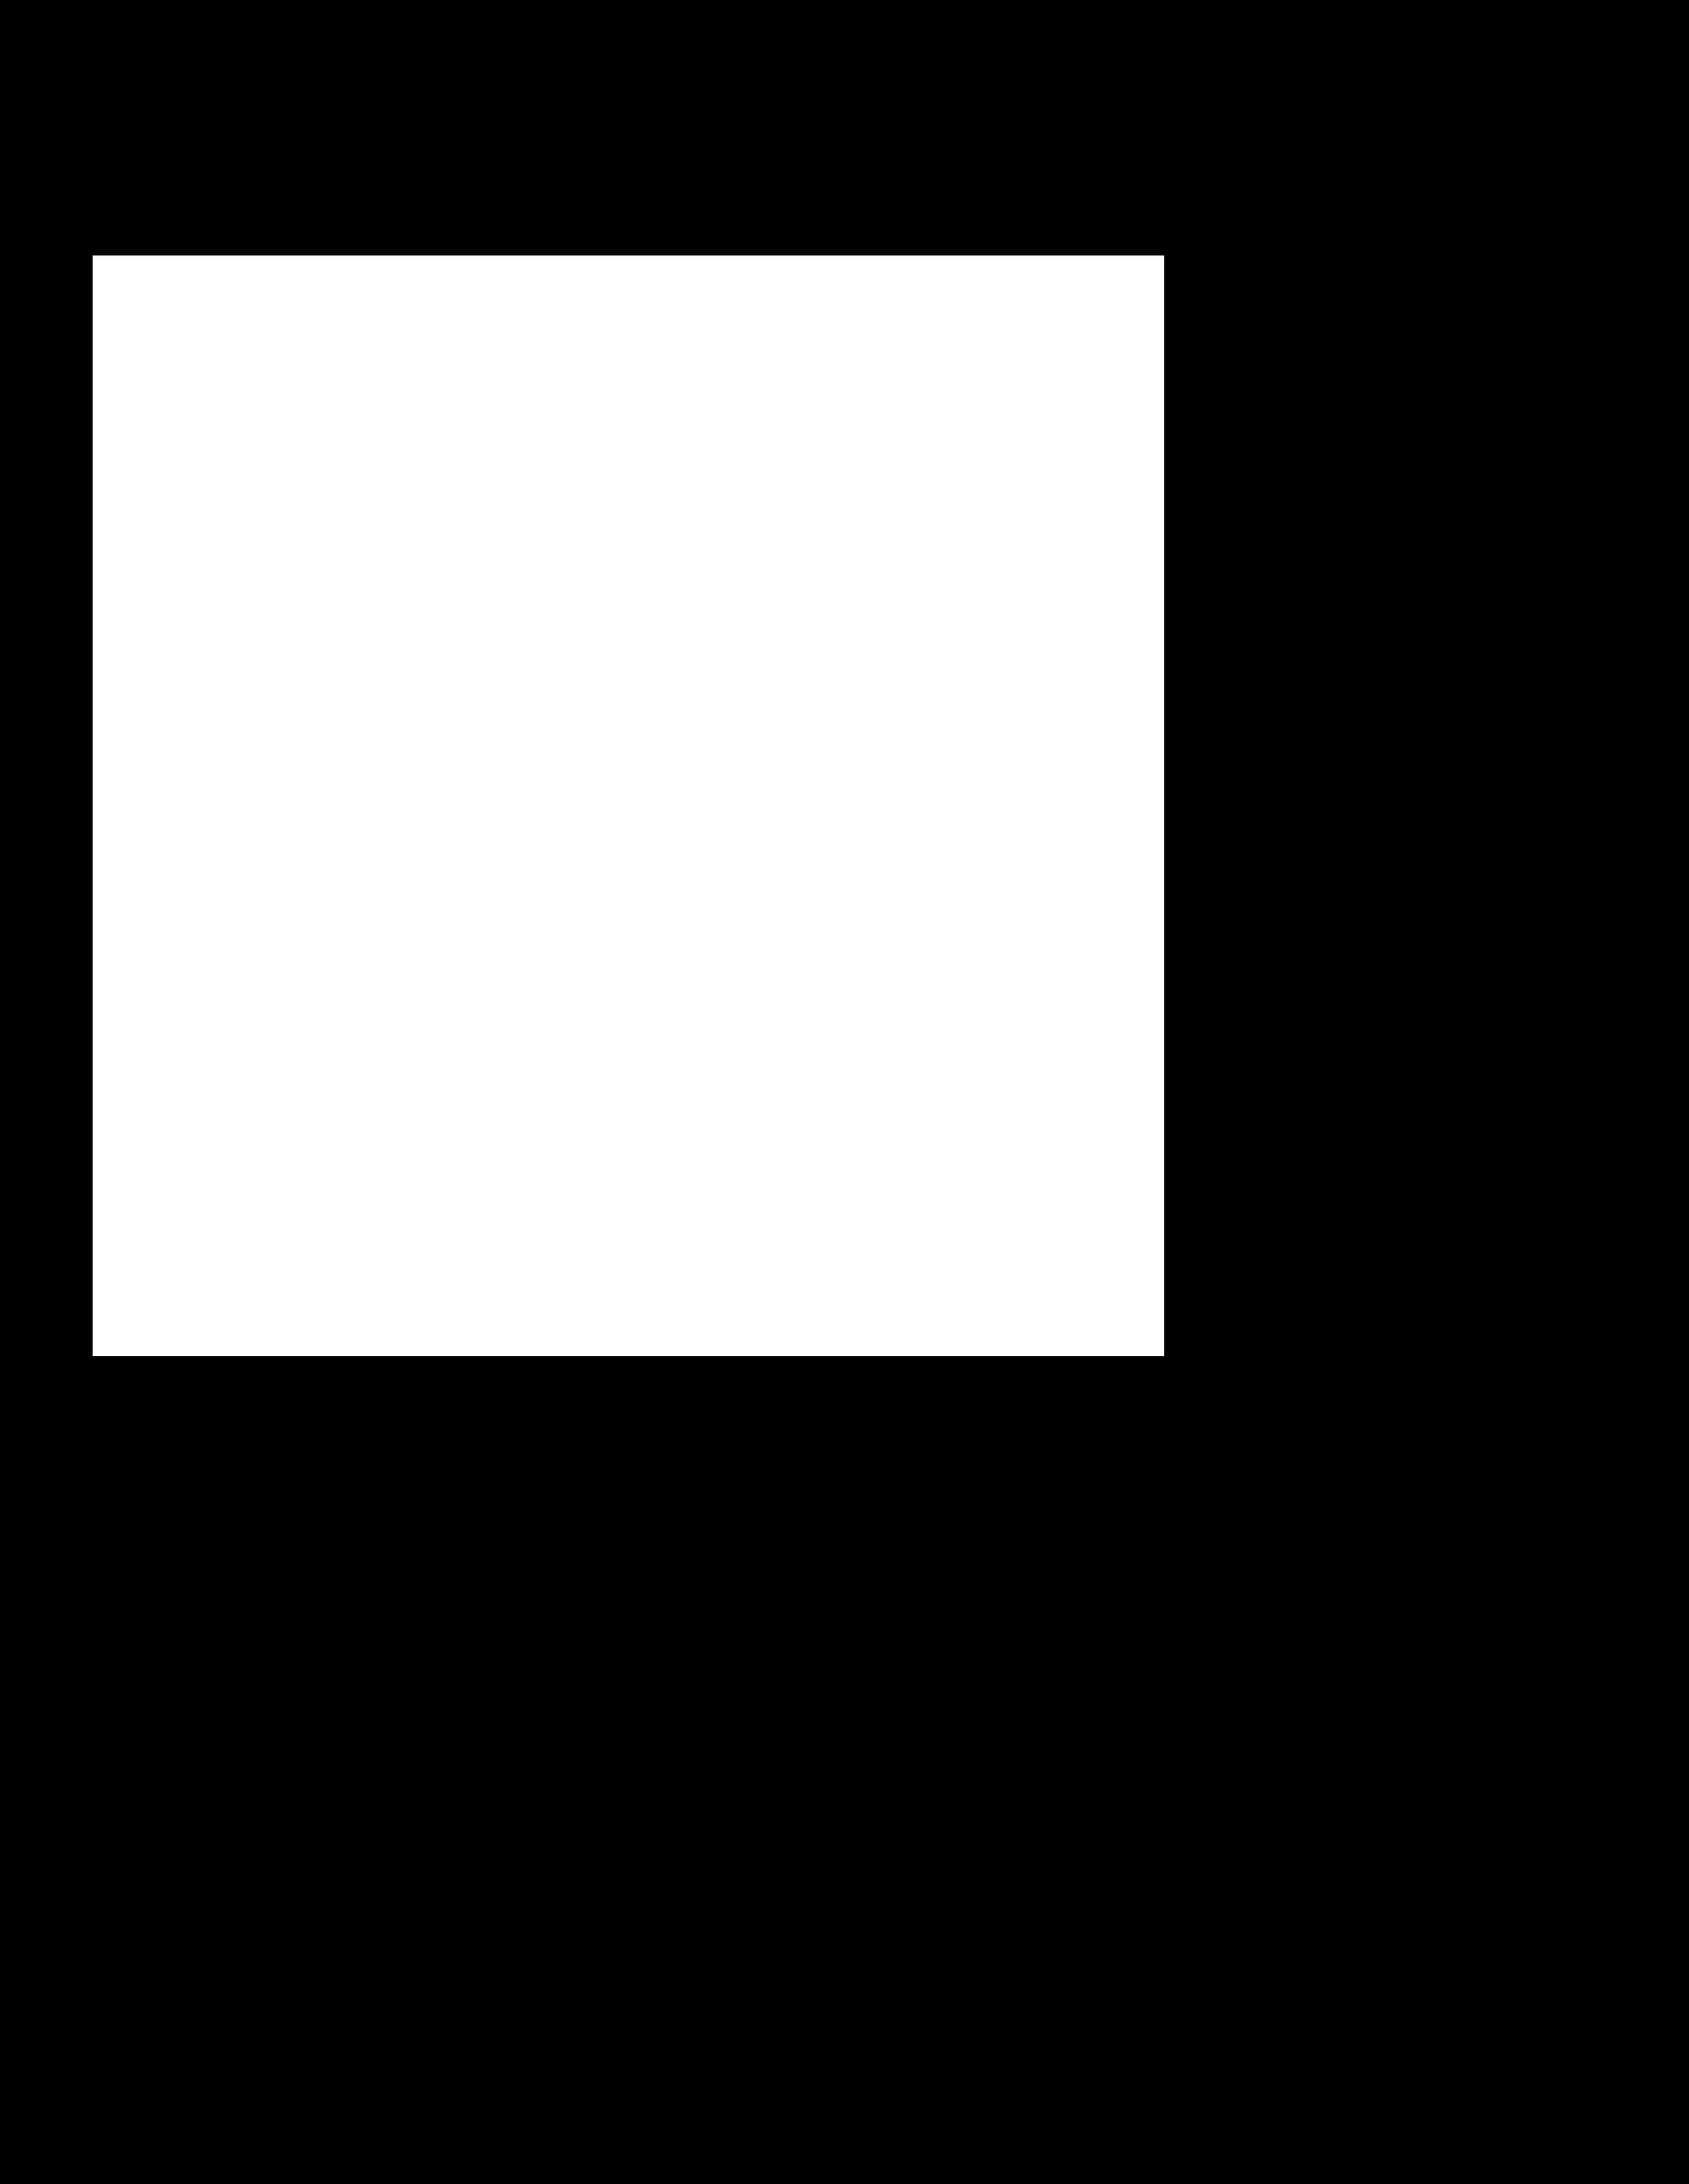table: (92, 255, 1163, 1356)
